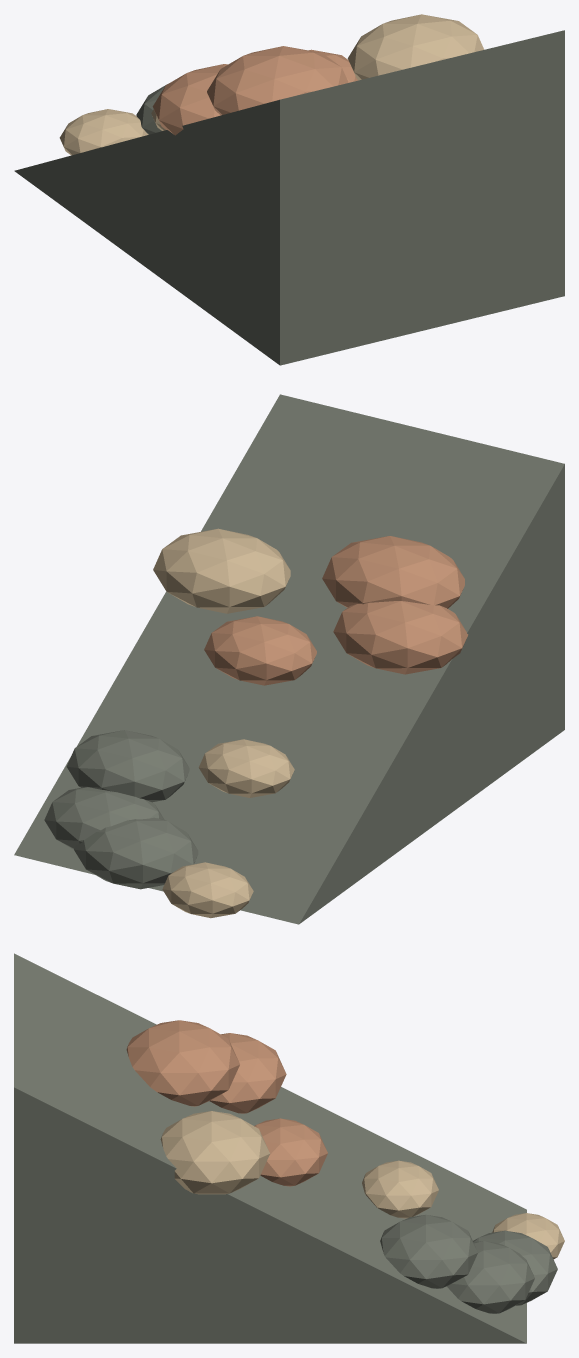
Rendered from debris_ramp_07.glb.
The picture shows the model from 3 angles, top to bottom: view 1: azimuth 30°, elevation 25°; view 2: azimuth 150°, elevation 25°; view 3: azimuth 270°, elevation 25°; orthographic projection. The views are drawn at different scales.
Parts seen in each view (by area): view 1: core, lump5, lump7, lump8, lump4, lump0; view 2: core, lump7, lump5, lump8, lump3, lump0, lump2, lump1, lump6, lump4; view 3: core, lump5, lump7, lump3, lump6, lump8, lump2, lump1, lump0, lump4.
Part boxes in pixels (box(x1,y1,x2,y2)): core: box(14, 30, 564, 365); lump5: box(207, 46, 348, 115); lump7: box(347, 14, 484, 80); lump8: box(152, 64, 227, 135); lump4: box(59, 109, 148, 155); lump0: box(136, 84, 167, 134); core: box(14, 394, 564, 924); lump7: box(153, 528, 290, 613); lump5: box(322, 536, 464, 608); lump8: box(333, 601, 468, 674); lump3: box(66, 730, 189, 802); lump0: box(74, 817, 198, 889); lump2: box(204, 616, 316, 685); lump1: box(198, 739, 294, 797); lump6: box(44, 787, 164, 849); lump4: box(162, 862, 253, 918); core: box(14, 953, 526, 1343); lump5: box(126, 1020, 239, 1106); lump7: box(160, 1111, 270, 1194); lump3: box(380, 1214, 477, 1288); lump6: box(447, 1241, 534, 1313); lump8: box(209, 1033, 286, 1113); lump2: box(254, 1118, 327, 1186); lump1: box(362, 1160, 438, 1218); lump0: box(473, 1230, 557, 1305); lump4: box(492, 1213, 564, 1259).
Size of the model in its own units: 1.12 by 0.9433 by 1.77.
